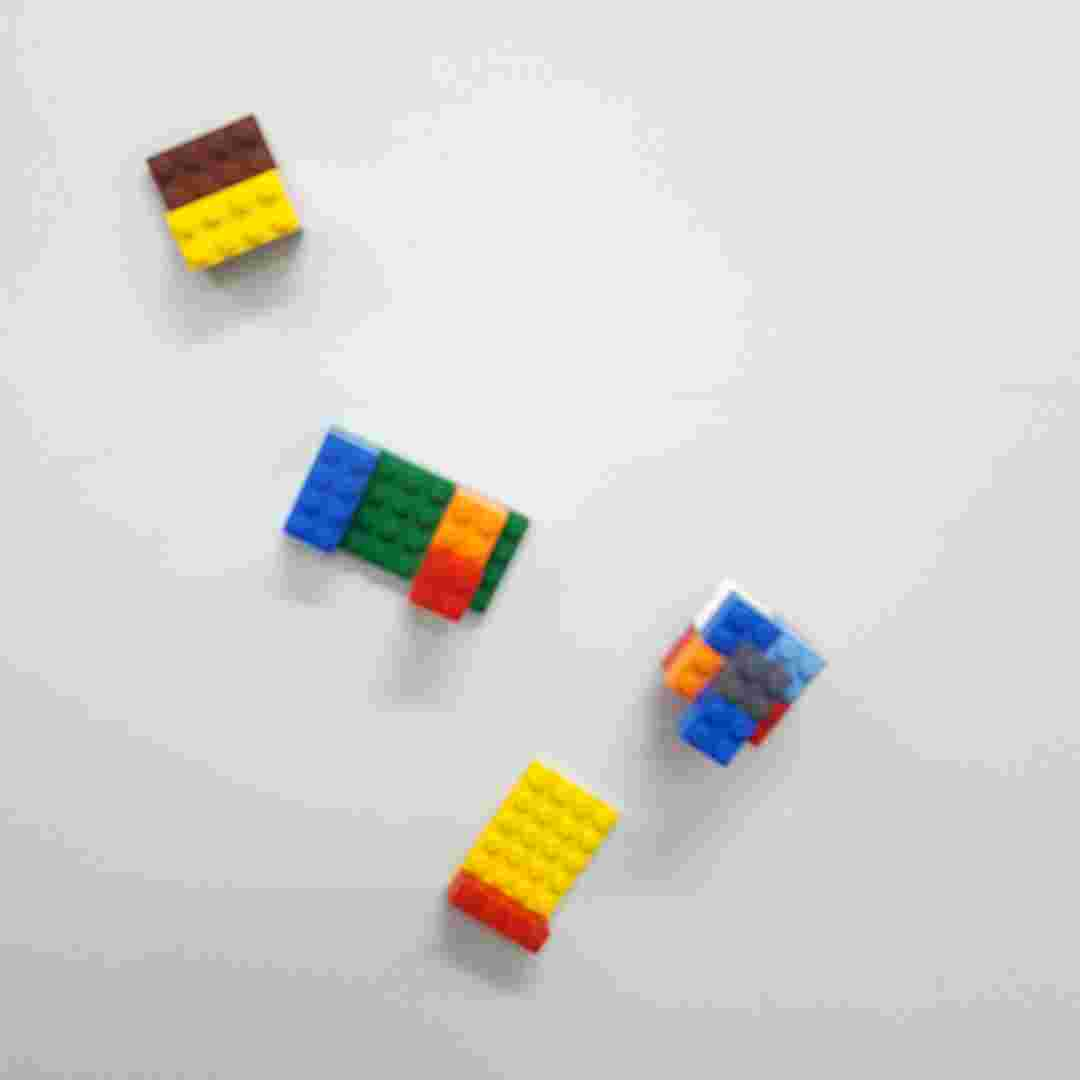LEGO: (275, 421, 537, 619), (454, 750, 622, 951), (665, 569, 836, 760), (140, 112, 319, 275)
